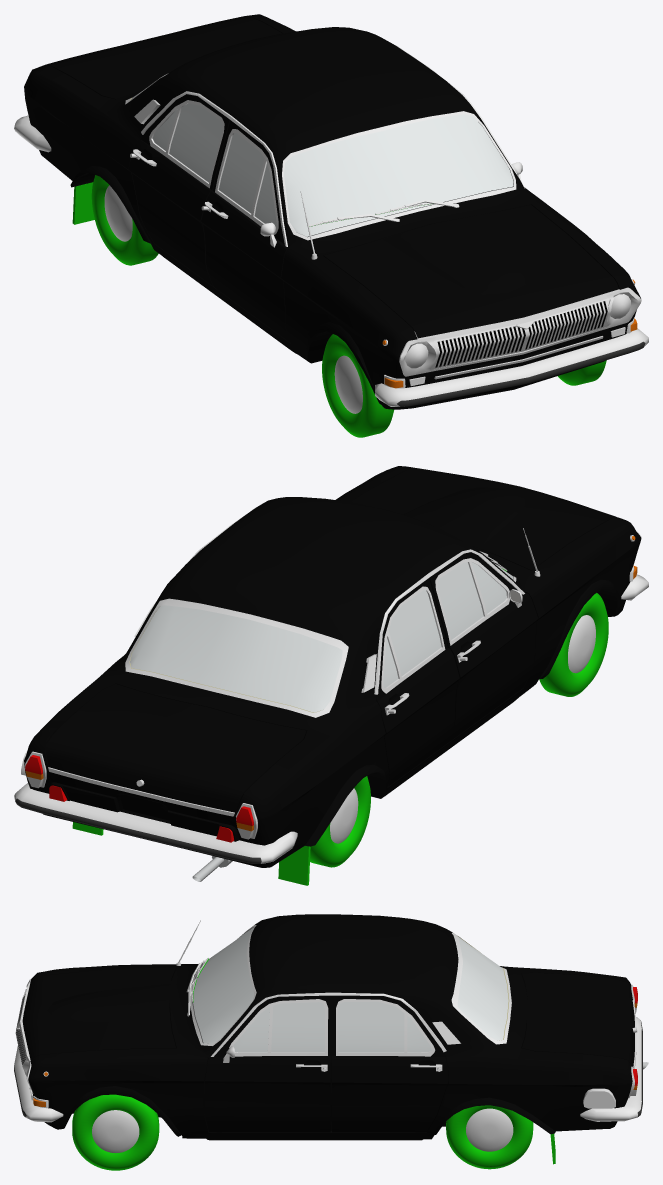
File: GAZ-24 Volga (low-poly).fbx
3 renders of one model, top to bottom at view 1: azimuth 30°, elevation 25°; view 2: azimuth 150°, elevation 25°; view 3: azimuth 270°, elevation 25°, orthographic. The views are drawn at different scales.
Visible parts, largest first — view 1: Body, Grill, Low poly wheels, Bumper (front), Wipers, Bumper (rear); view 2: Body, Low poly wheels, Bumper (rear); view 3: Body, Low poly wheels, Bumper (rear), Bumper (front), Grill, Cutter.
Part boxes in pixels (<box>): Body: <box>24,14,640,409</box>; Grill: <box>399,287,641,386</box>; Low poly wheels: <box>91,175,606,437</box>; Bumper (front): <box>375,328,648,406</box>; Wipers: <box>309,200,459,226</box>; Bumper (rear): <box>14,115,51,152</box>; Body: <box>24,466,641,885</box>; Low poly wheels: <box>310,593,608,867</box>; Bumper (rear): <box>14,783,297,863</box>; Body: <box>22,914,637,1164</box>; Low poly wheels: <box>72,1094,533,1170</box>; Bumper (rear): <box>580,1017,642,1121</box>; Bumper (front): <box>14,1045,63,1122</box>; Grill: <box>15,979,33,1100</box>; Cutter: <box>583,1088,615,1108</box>.
Size of the model in its own units: 151 by 183 by 475.
